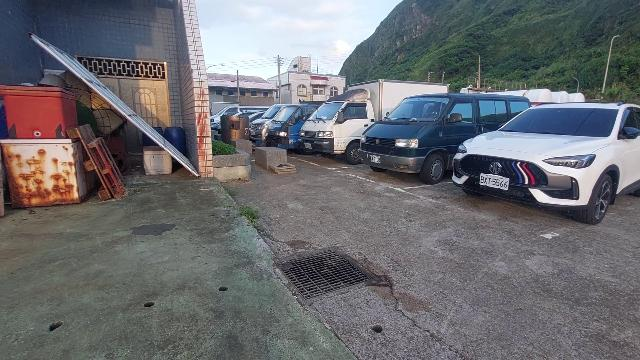pollute: (1, 69, 129, 209), (151, 126, 187, 156), (140, 146, 172, 175)
